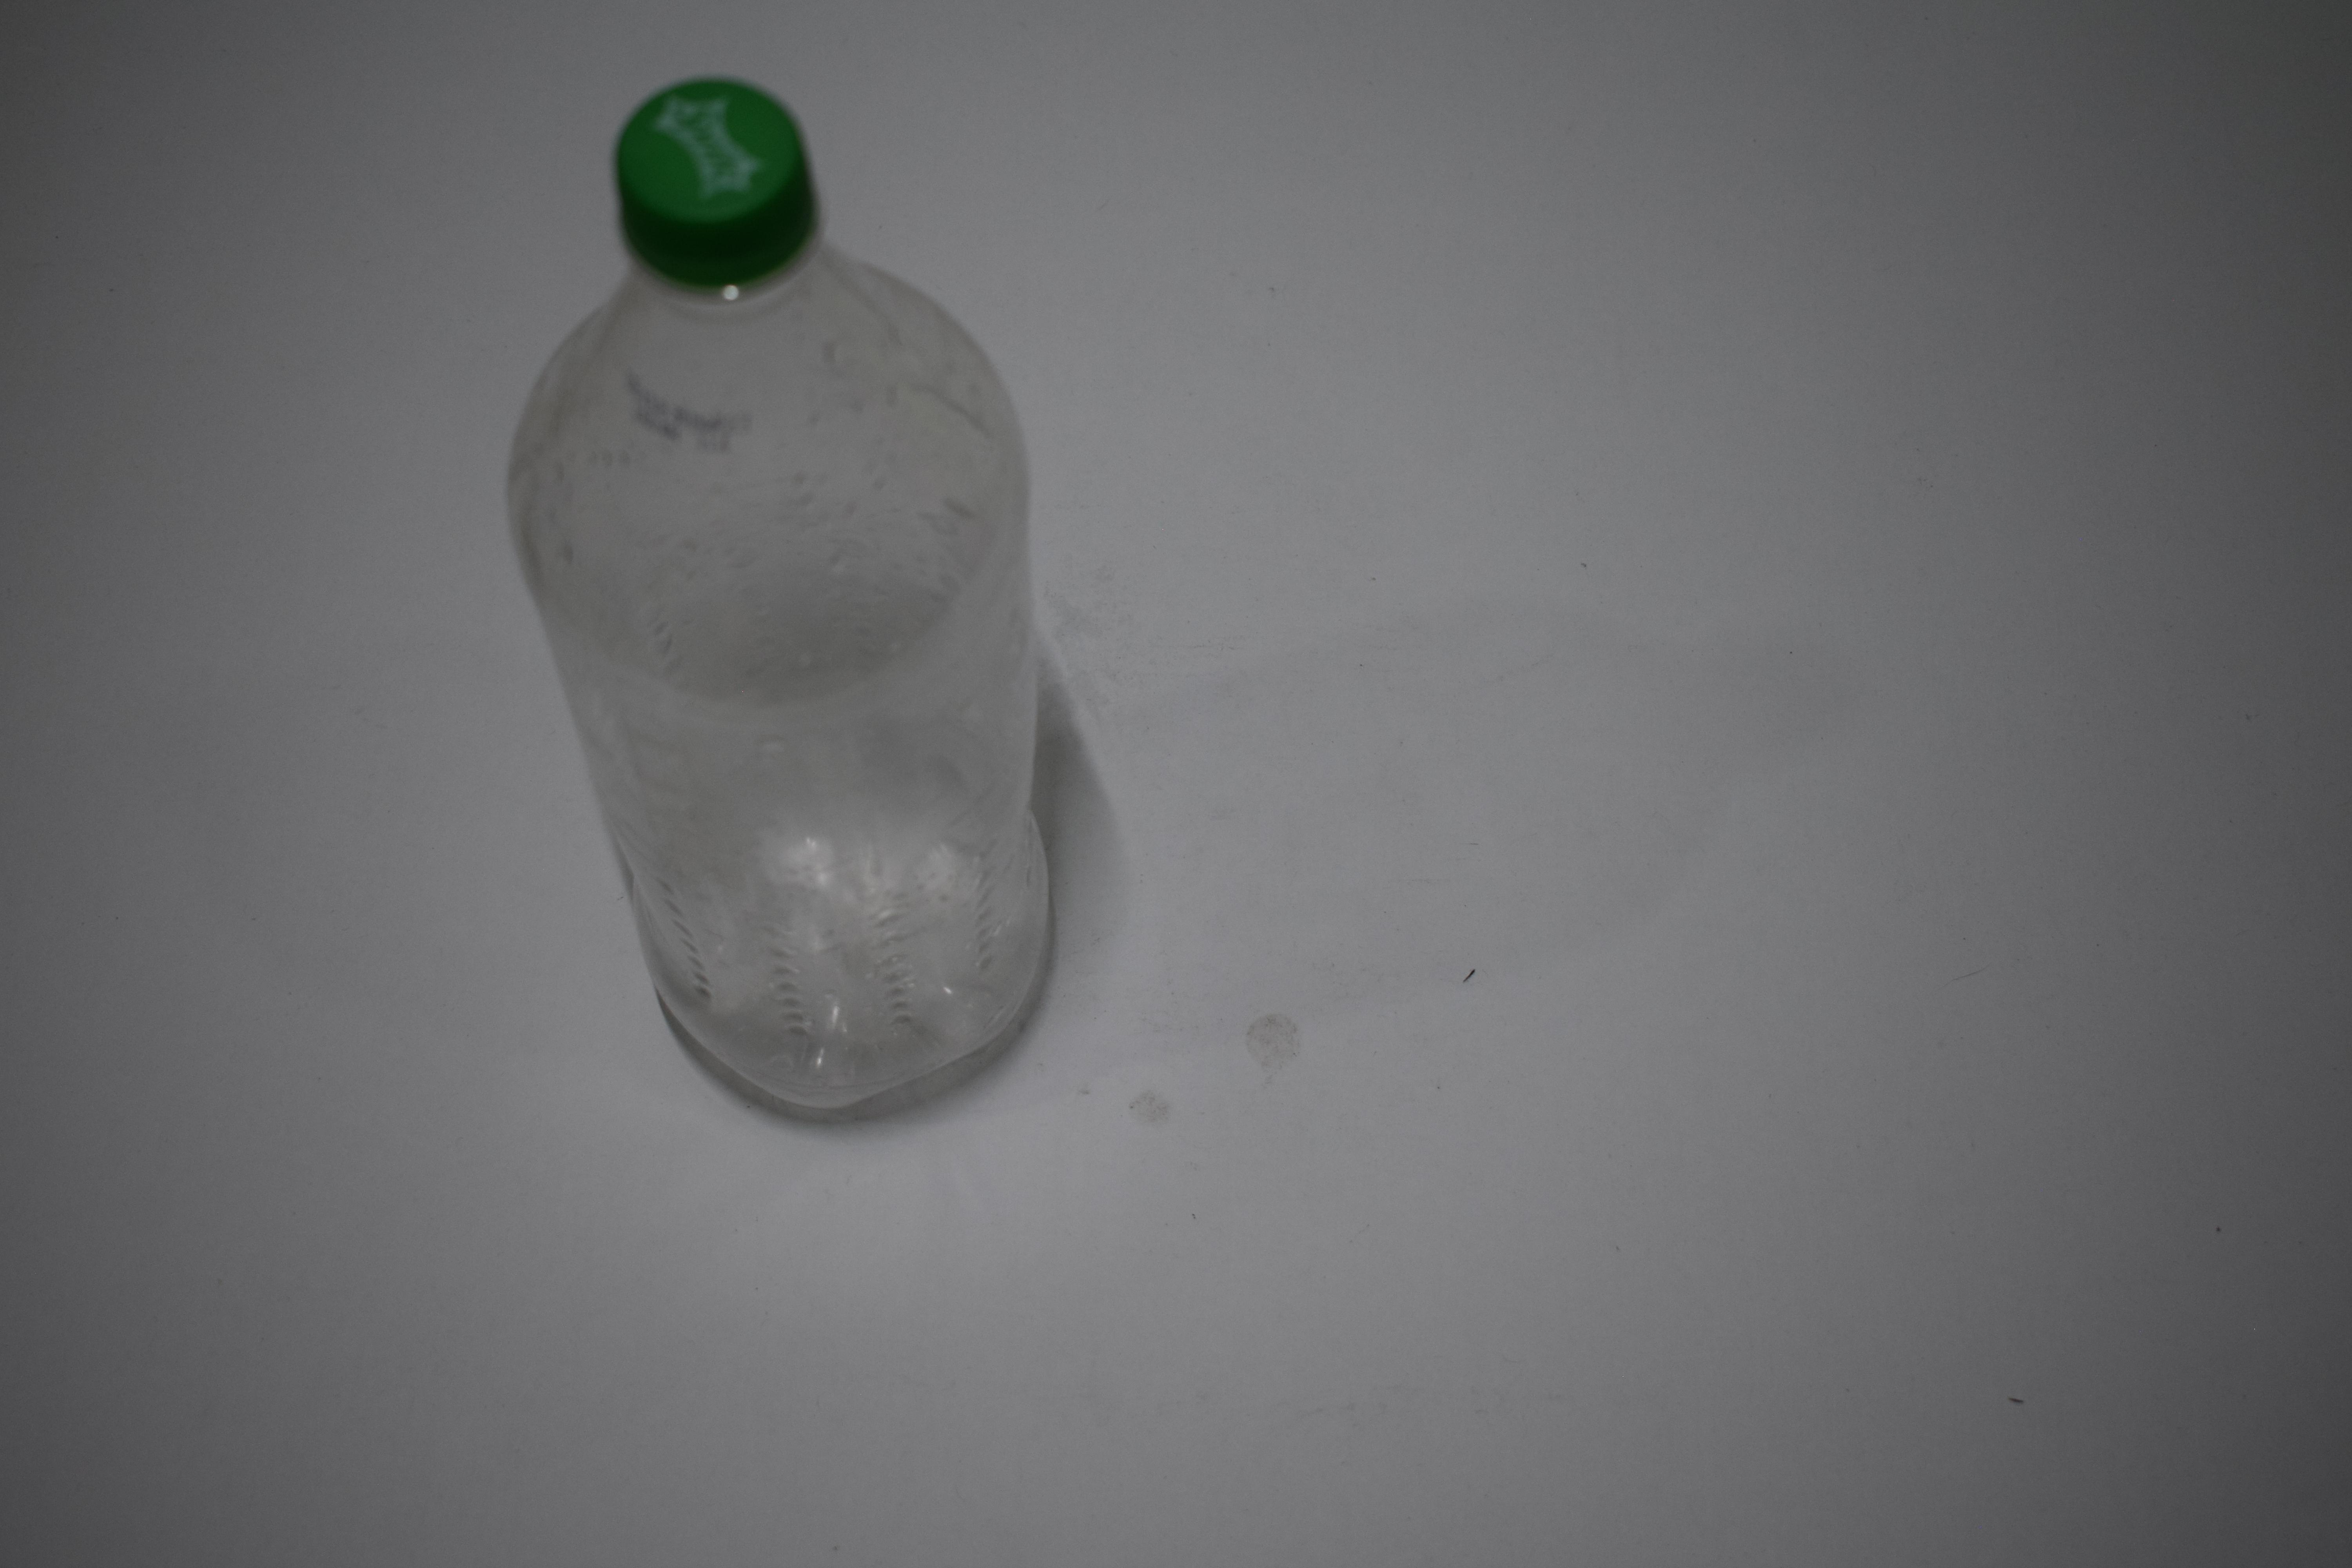bottle: (497, 66, 1071, 1120)
